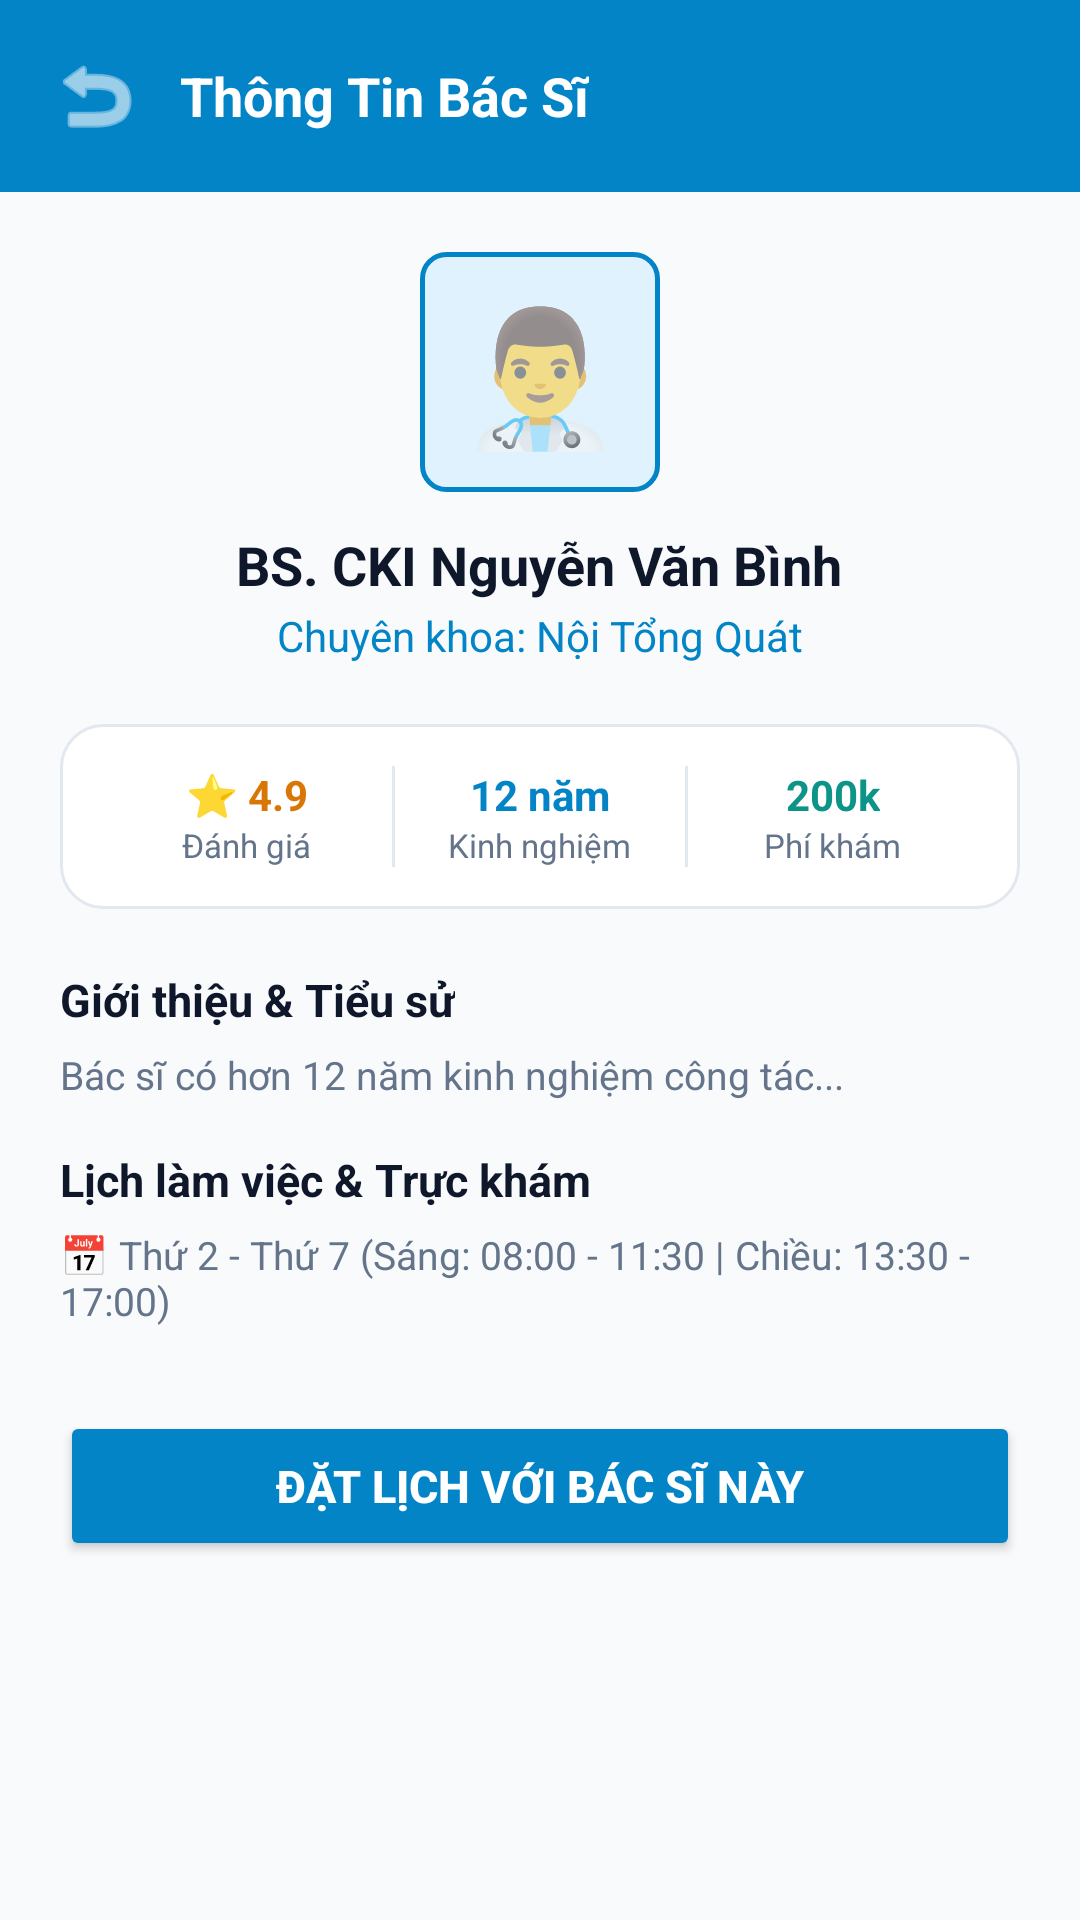

Named icons in this screenshot (1080×1920) and their bounding boxes, [x1,y1,x2,y2]:
revert: [63,65,132,128]
